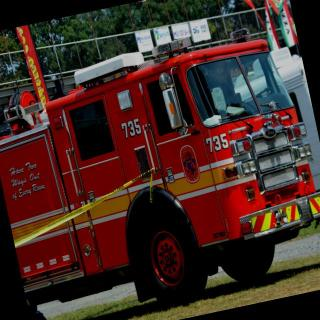Fire_truck: (0, 27, 320, 304)
